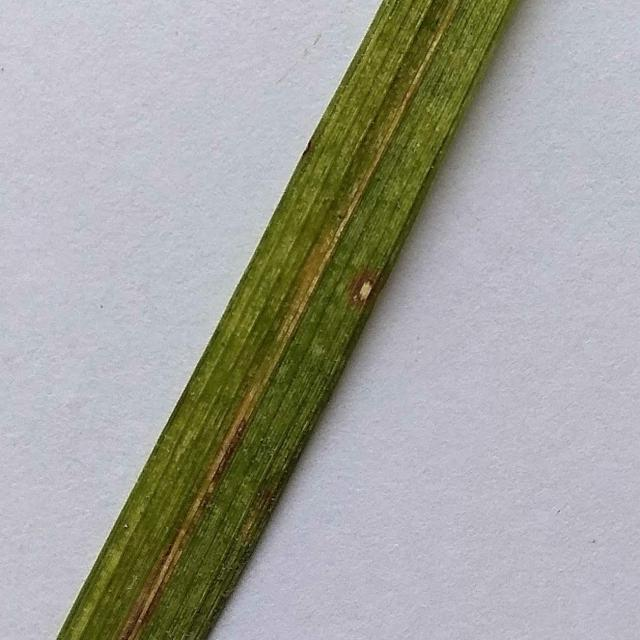Rice_Blast: (338, 250, 386, 309)
